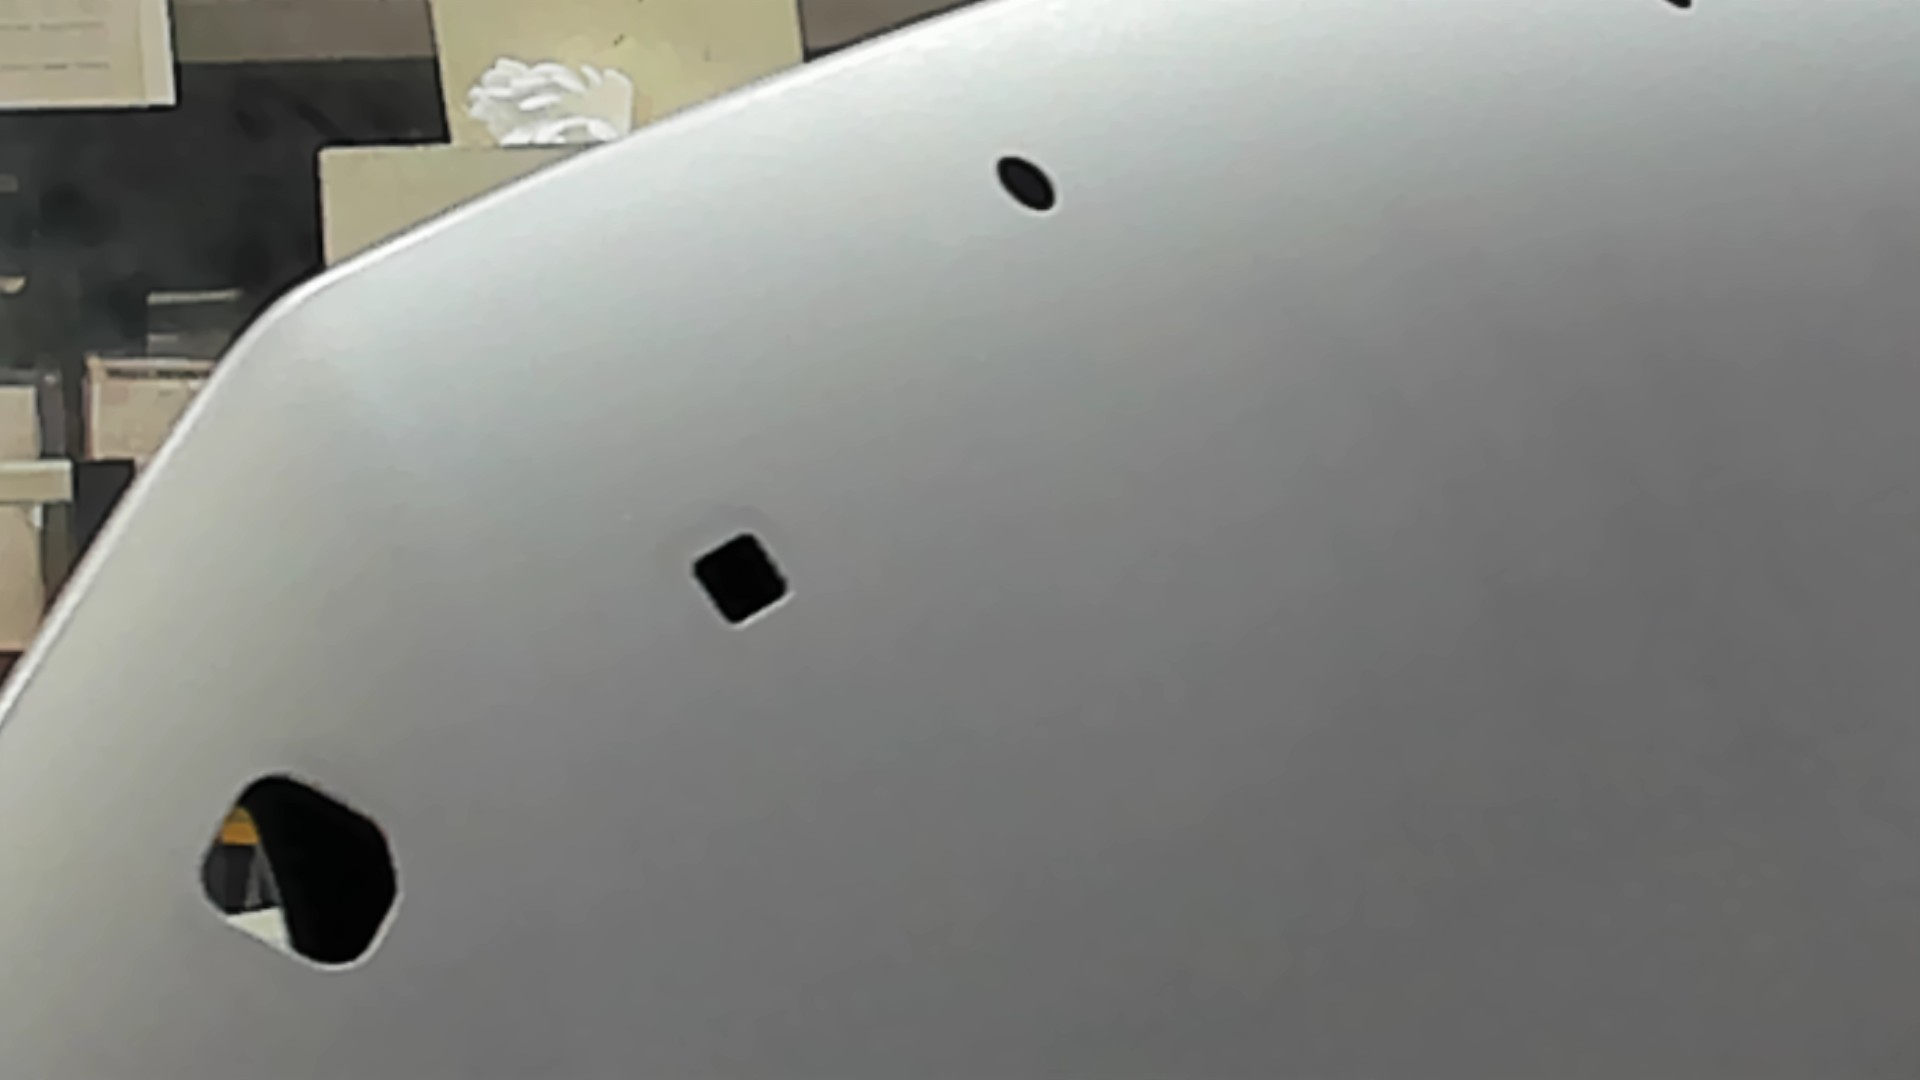Agujero: (688, 530, 791, 628), (992, 152, 1058, 212)
Agujerote: (196, 770, 402, 972)
